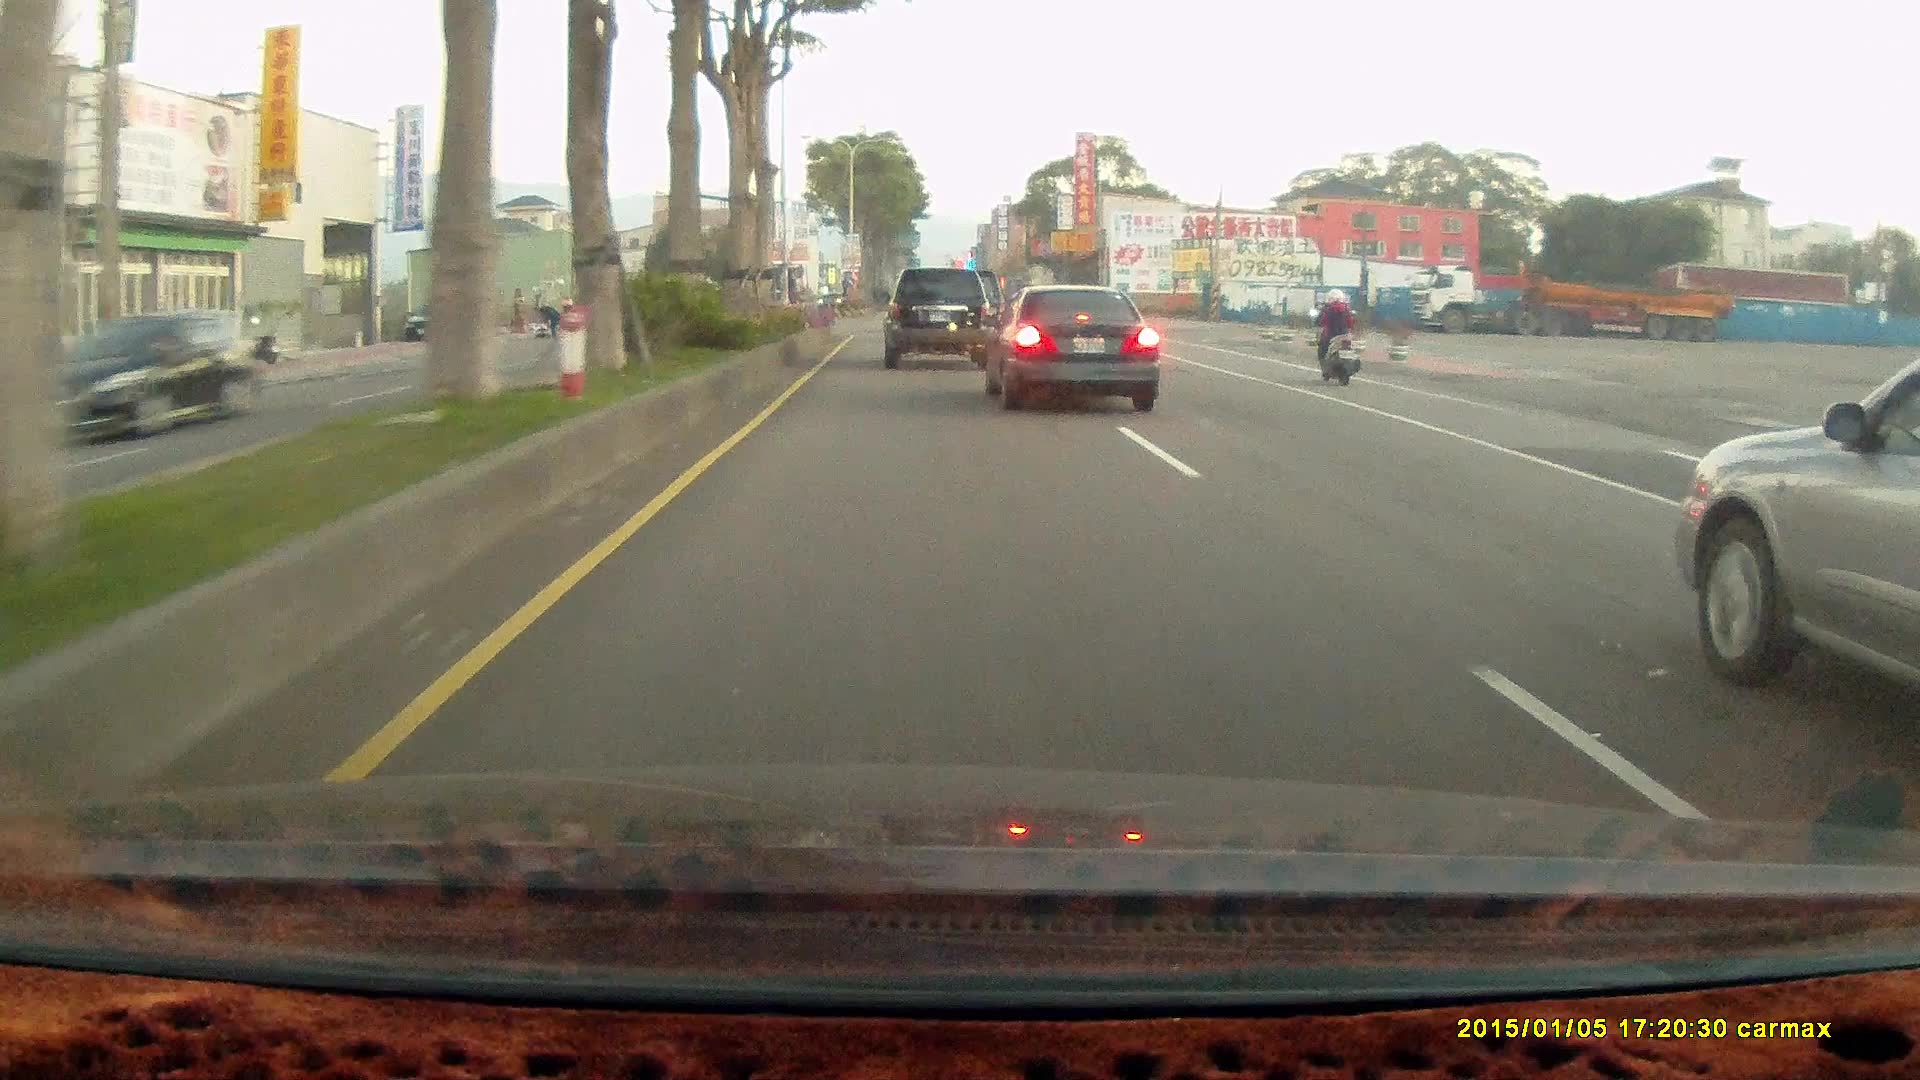pedestrian: (533, 302, 558, 335)
rider: (1299, 279, 1374, 392), (1307, 283, 1361, 382)
vehicle: (1674, 358, 1920, 727), (12, 306, 258, 443), (58, 304, 258, 439), (1405, 265, 1730, 342), (980, 281, 1159, 412), (986, 282, 1160, 408), (880, 262, 1000, 365), (878, 263, 992, 363)
